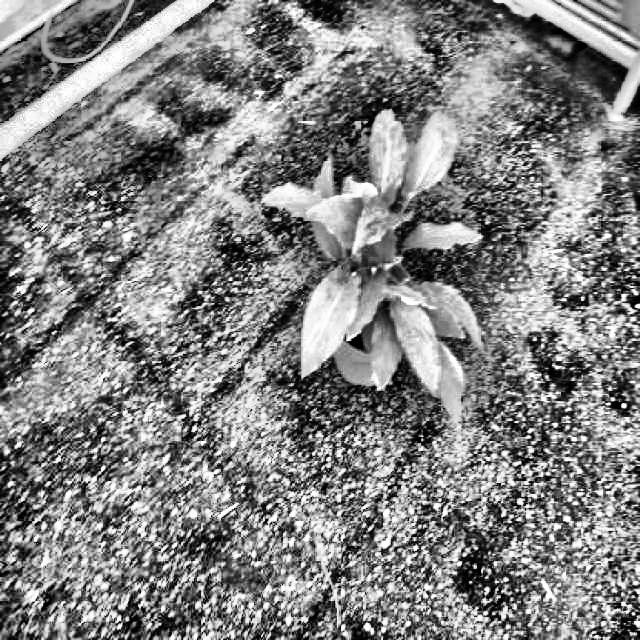plants: (254, 104, 486, 433)
